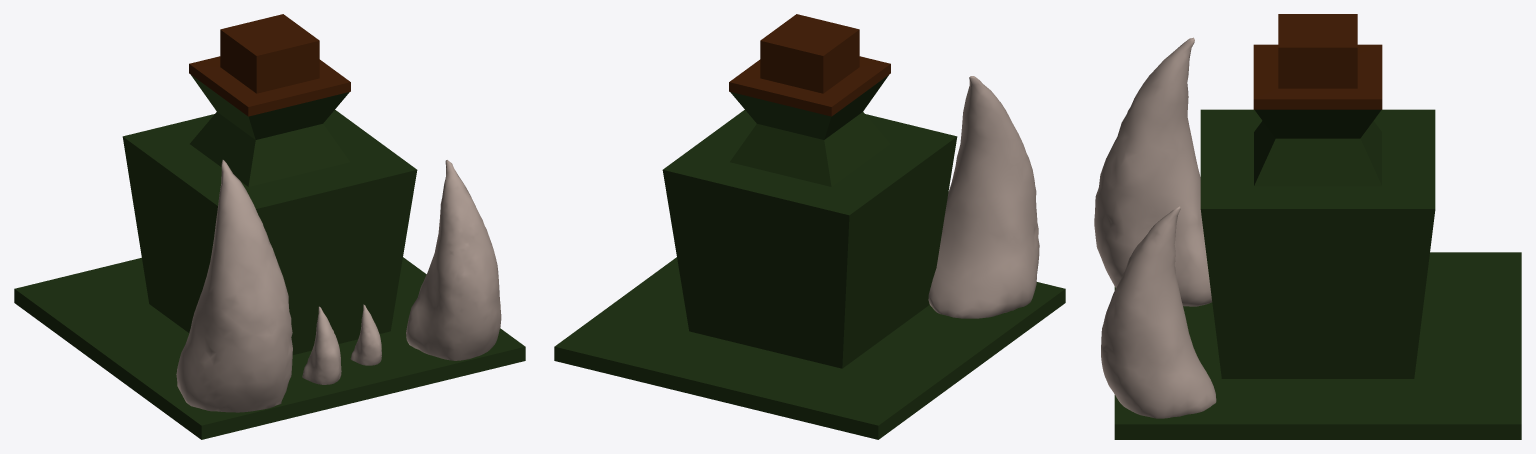
File: iksir5.fbx
The picture shows the model from 3 angles, left to right: view 1: azimuth 30°, elevation 25°; view 2: azimuth 150°, elevation 25°; view 3: azimuth 270°, elevation 25°; orthographic projection. The views are drawn at different scales.
Parts seen in each view (by area): view 1: iksir5; view 2: iksir5; view 3: iksir5.
Part boxes in pixels (x1,y1,x2,y2): iksir5: [14, 14, 525, 439]; iksir5: [554, 14, 1065, 439]; iksir5: [1094, 14, 1521, 439].
Size of the model in its own units: 380 by 332 by 398.
